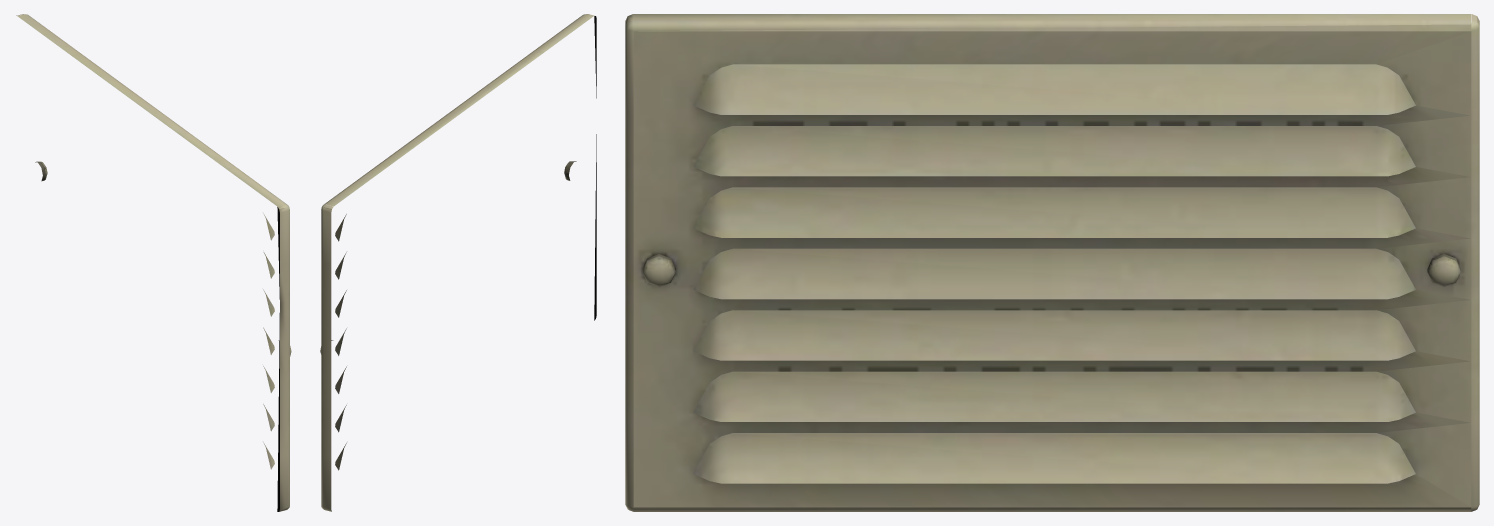
3 views of the same model, side by side, from view 1: azimuth 30°, elevation 25°; view 2: azimuth 150°, elevation 25°; view 3: azimuth 270°, elevation 25° (orthographic). The views are drawn at different scales.
Parts seen in each view (by area): view 1: body0_model0_lod0_mesh0; view 2: body0_model0_lod0_mesh0; view 3: body0_model0_lod0_mesh0.
Boxes of the visible parts, x1,y1,x2,y2 form: body0_model0_lod0_mesh0: [16, 14, 291, 511]; body0_model0_lod0_mesh0: [320, 14, 596, 511]; body0_model0_lod0_mesh0: [625, 14, 1479, 511].
Bounding box in the file's own units: 2 × 24 × 37.82.
Materials: 1 (1 with a texture image).
